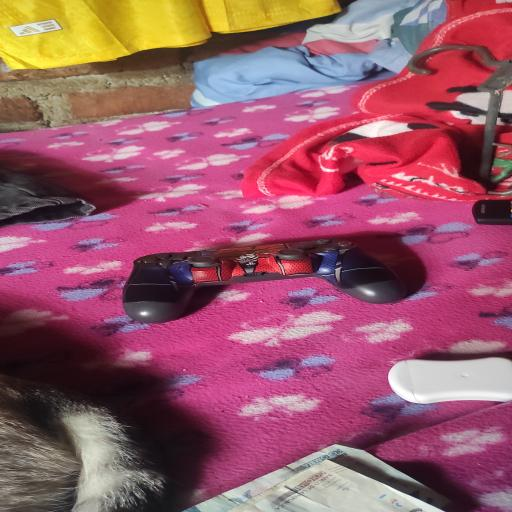ControlPlay4: (122, 237, 405, 323)
